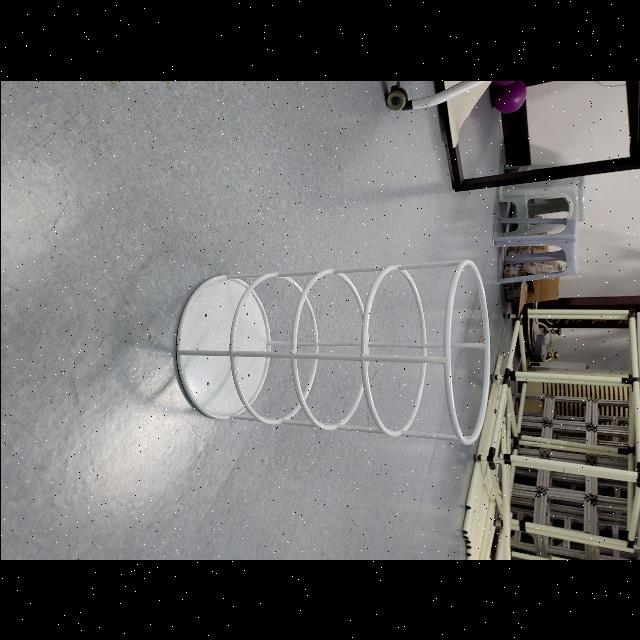S: (173, 255, 494, 448)
